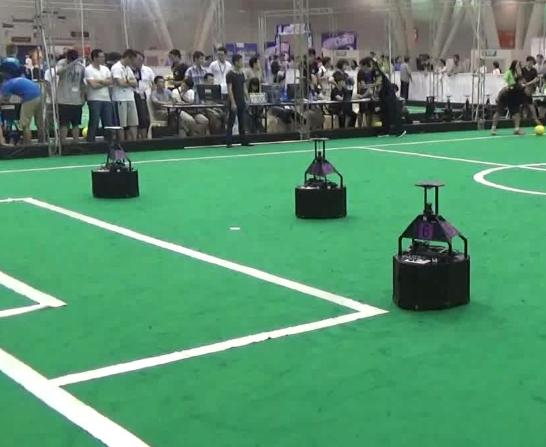robot: (388, 180, 474, 313), (293, 135, 350, 222), (87, 125, 140, 201)
